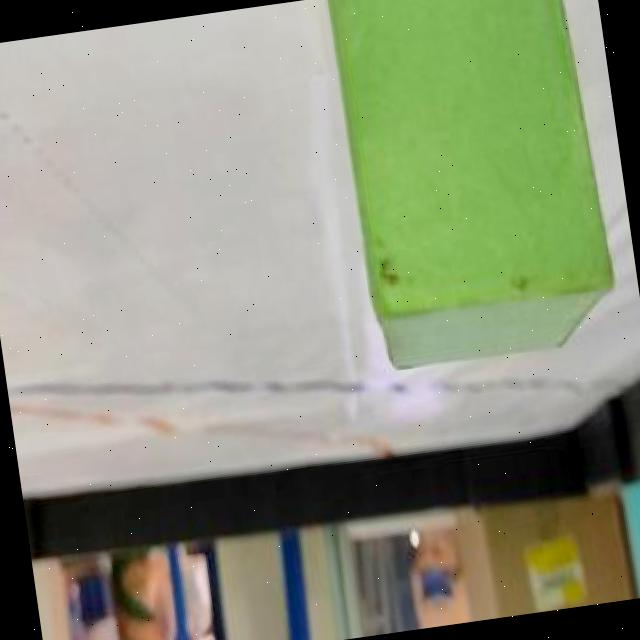greenbox: (326, 0, 625, 378)
